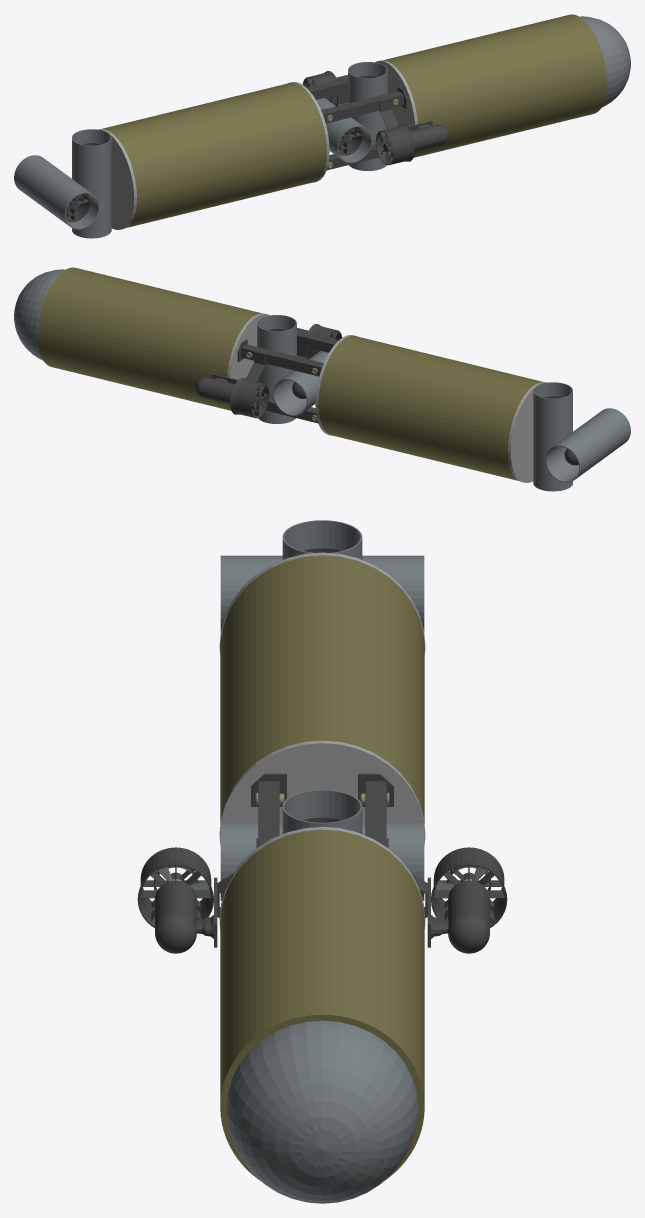
File: avalon.obj
3 views of the same model, one above another, from view 1: azimuth 30°, elevation 25°; view 2: azimuth 150°, elevation 25°; view 3: azimuth 270°, elevation 25° (orthographic). The views are drawn at different scales.
Visible parts, largest first — view 1: Mesh.008_BTD150_3_Wing_Pro.003; view 2: Mesh.008_BTD150_3_Wing_Pro.003; view 3: Mesh.008_BTD150_3_Wing_Pro.003.
Boxes of the visible parts, x1=… form: Mesh.008_BTD150_3_Wing_Pro.003: x1=14, y1=14, x2=630, y2=238; Mesh.008_BTD150_3_Wing_Pro.003: x1=14, y1=267, x2=630, y2=491; Mesh.008_BTD150_3_Wing_Pro.003: x1=137, y1=520, x2=507, y2=1203.
Size of the model in its own units: 1.45 by 0.2207 by 0.3964.
